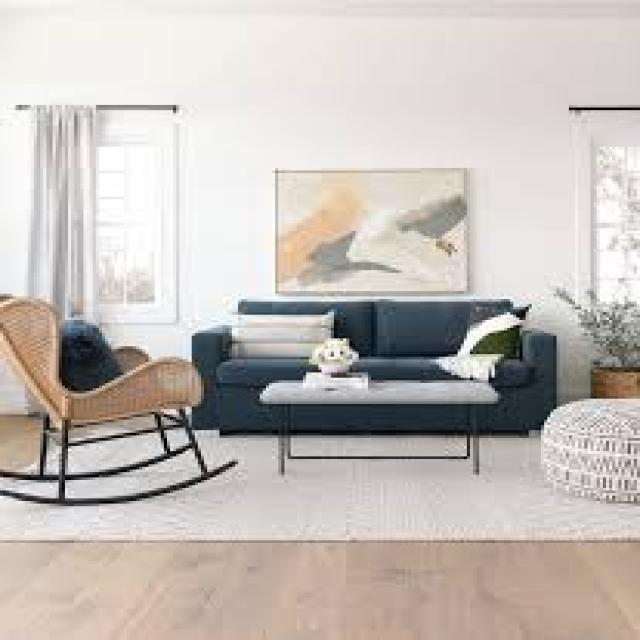Chair: (0, 280, 229, 516)
Sofa: (192, 290, 562, 432)
Table: (255, 372, 504, 478)
